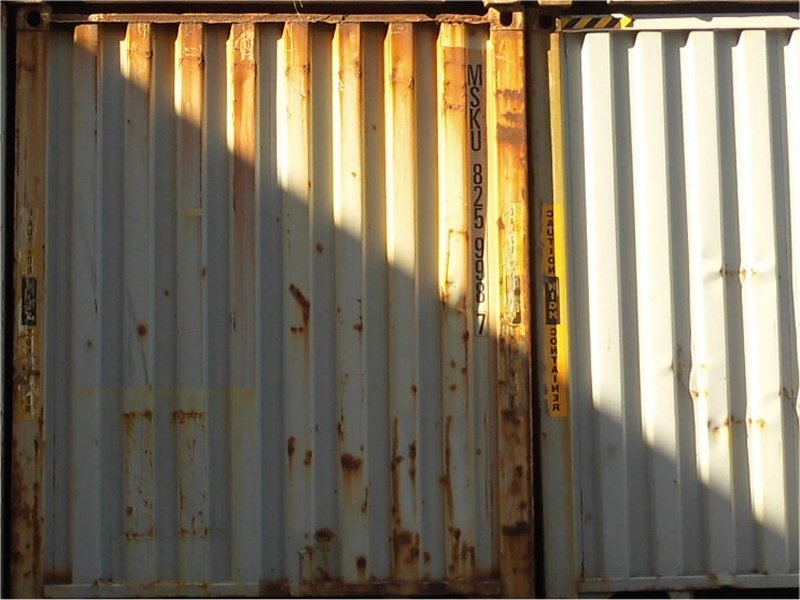container_no_door: (16, 7, 535, 593), (549, 14, 799, 598)
